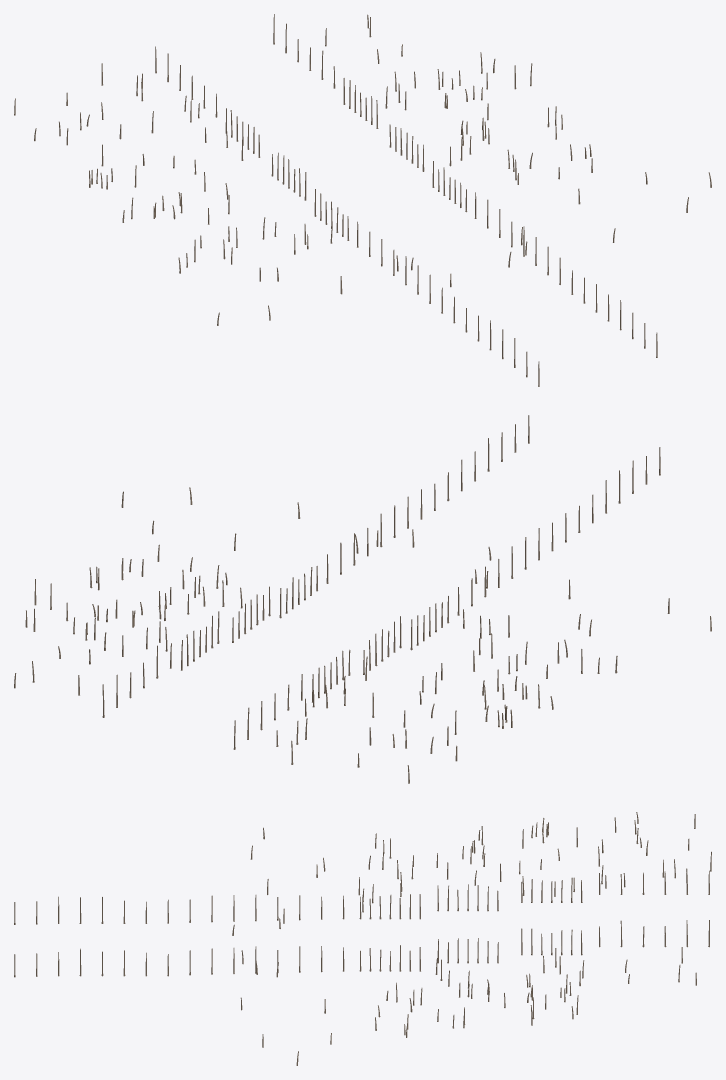
The model's file is E7-7_Palmeiras_troncos.fbx.
3 renders of one model, top to bottom at view 1: azimuth 30°, elevation 25°; view 2: azimuth 150°, elevation 25°; view 3: azimuth 270°, elevation 25°, orthographic. The views are drawn at different scales.
Visible parts, largest first — view 1: E7-7_Palmeiras_troncos; view 2: E7-7_Palmeiras_troncos; view 3: E7-7_Palmeiras_troncos.
Part boxes in pixels (x1,y1,x2,y2): E7-7_Palmeiras_troncos: [14, 14, 711, 386]; E7-7_Palmeiras_troncos: [14, 415, 711, 783]; E7-7_Palmeiras_troncos: [14, 812, 711, 1065].
Size of the model in its own units: 270 by 31.65 by 350.
